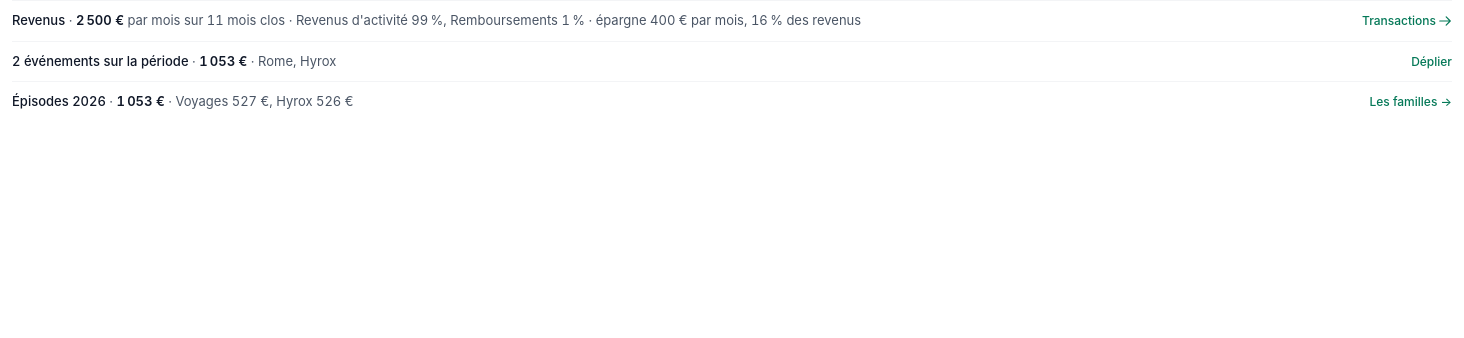
it: PeriodSummaryLines › unfolds the events in place under their line, and folds them back
The width and height of the screenshot is (1464, 338).
Click the button with test id "events-toggle". click: (1432, 62)
box: [1411,54,1452,70]
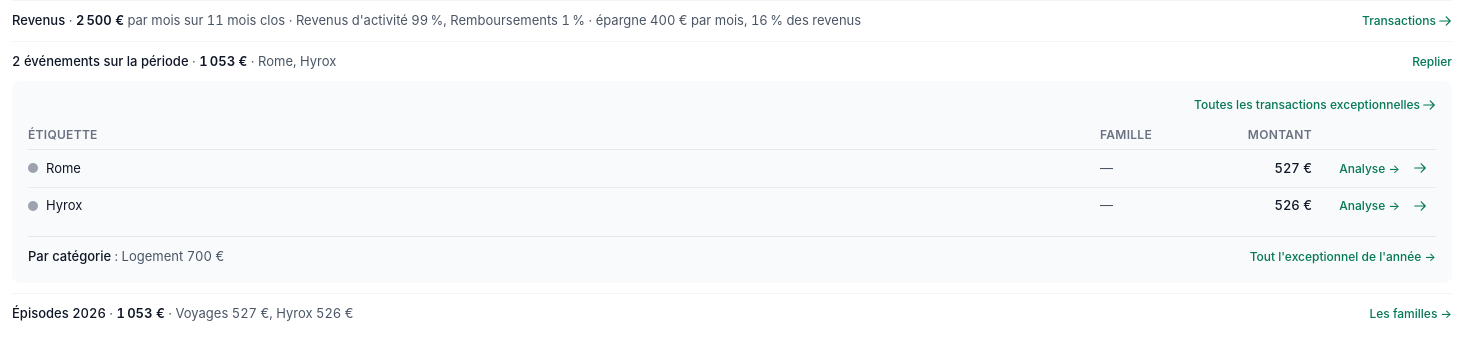
Result: the button with test id "events-toggle" is expanded
Result: the button with test id "events-toggle" reads "Replier"
Click the button with test id "events-toggle". click: (1432, 62)
box: [1412,54,1452,70]
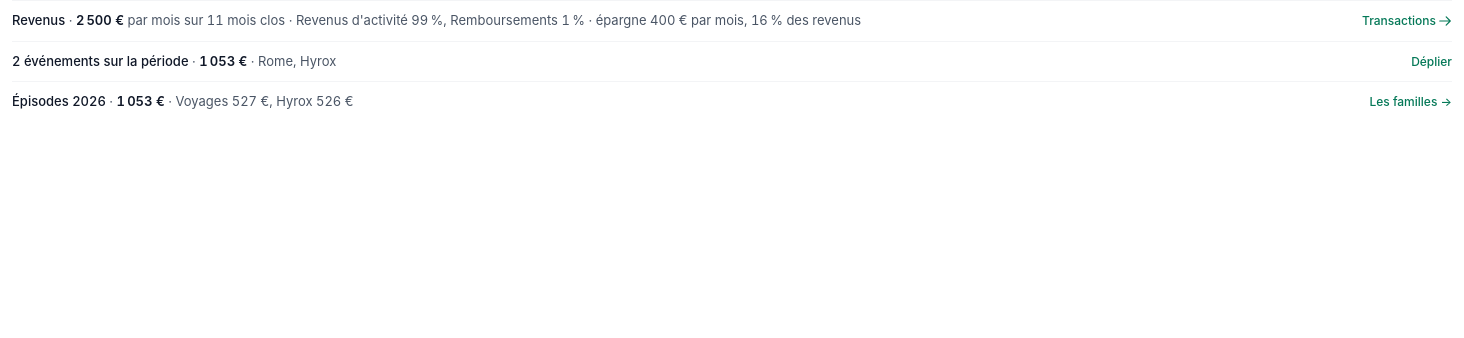
Result: the button with test id "events-toggle" is collapsed at [1411,54,1452,70]
